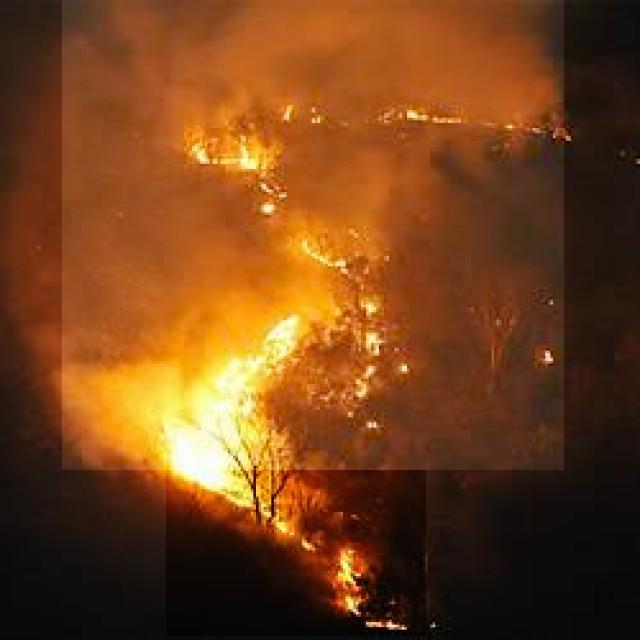Fire: (166, 0, 426, 636)
Smoke: (62, 0, 564, 470)
